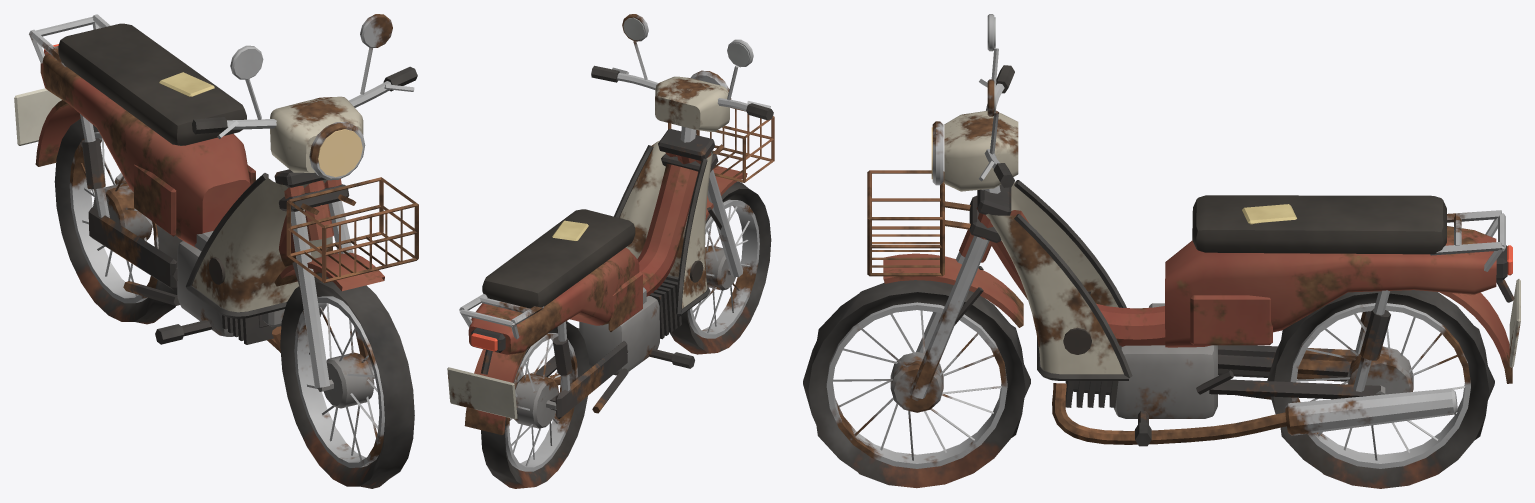
Rendered from CustomerBike.fbx.
3 views of the same model, side by side, from view 1: azimuth 30°, elevation 25°; view 2: azimuth 150°, elevation 25°; view 3: azimuth 270°, elevation 25° (orthographic). The views are drawn at different scales.
Visible parts, largest first — view 1: CustomerBike, Handlebar, FrontWheel, RearWheel, LicensePlate, Headlight_Neon; view 2: CustomerBike, Handlebar, RearWheel, FrontWheel, LicensePlate, Taillight_Neon; view 3: CustomerBike, FrontWheel, Handlebar, RearWheel.
Part boxes in pixels (bbox=[...]): CustomerBike: bbox=[29, 14, 333, 352]; Handlebar: bbox=[192, 14, 418, 387]; FrontWheel: bbox=[280, 273, 414, 488]; RearWheel: bbox=[54, 118, 182, 324]; LicensePlate: bbox=[14, 88, 61, 145]; Headlight_Neon: bbox=[317, 129, 362, 177]; CustomerBike: bbox=[459, 140, 713, 434]; Handlebar: bbox=[591, 14, 774, 277]; RearWheel: bbox=[481, 321, 589, 488]; FrontWheel: bbox=[670, 181, 771, 354]; LicensePlate: bbox=[447, 367, 517, 419]; Taillight_Neon: bbox=[471, 333, 497, 351]; CustomerBike: bbox=[959, 180, 1514, 446]; FrontWheel: bbox=[803, 280, 1030, 488]; Handlebar: bbox=[867, 14, 1023, 398]; RearWheel: bbox=[1267, 290, 1494, 488].
Bounding box in the file's own units: 66.85 × 123 × 182.
1 material, 1 textured.
